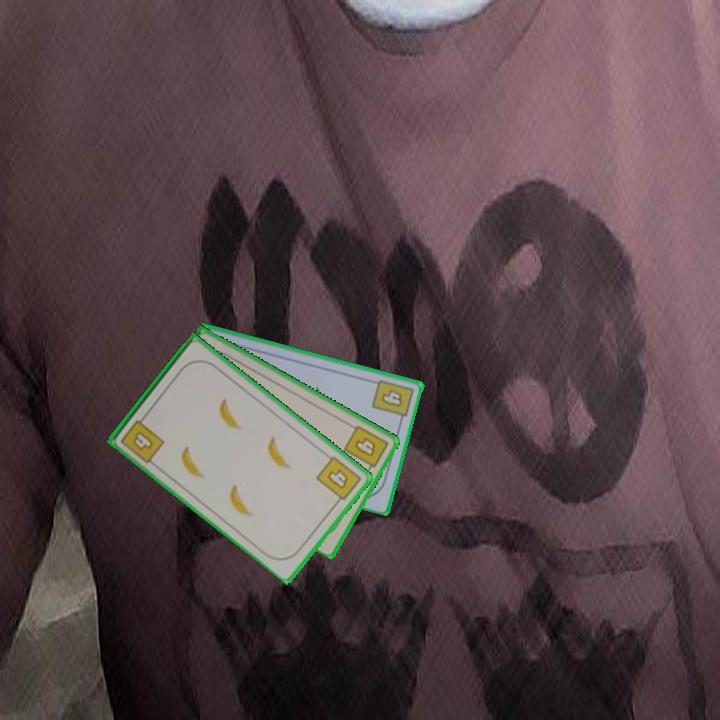4b: (313, 452, 364, 508), (117, 410, 168, 466), (340, 421, 391, 476), (368, 376, 416, 426)
